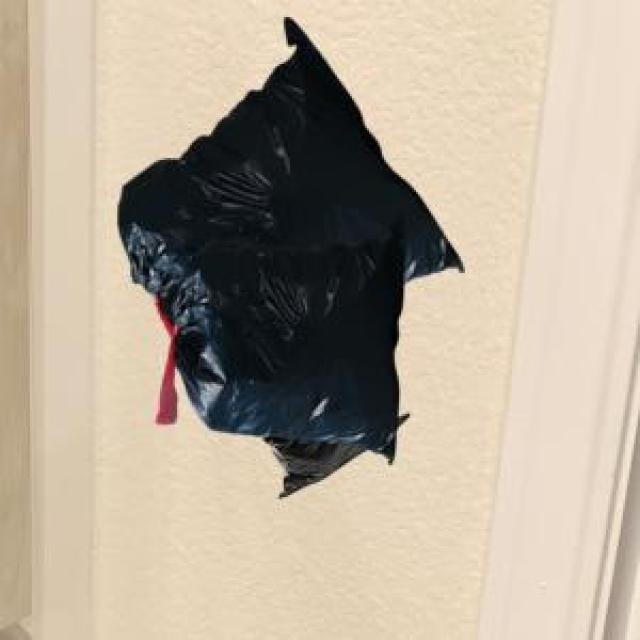waste: (118, 18, 462, 497)
